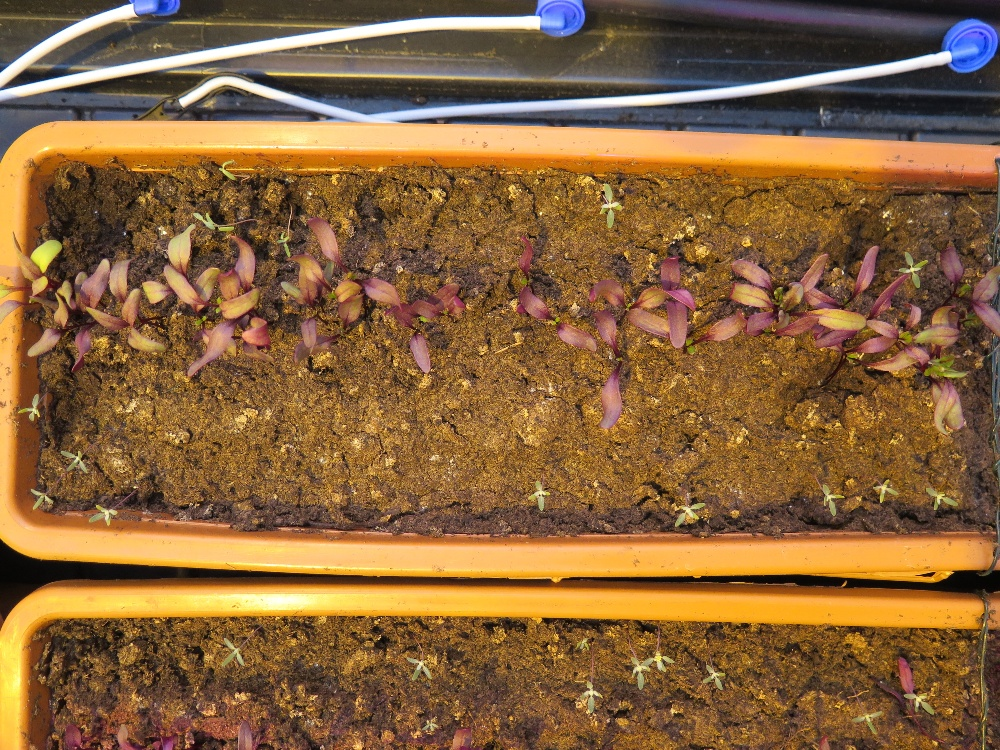crop: (711, 248, 839, 348), (356, 265, 466, 378), (191, 231, 266, 380), (931, 231, 1000, 359), (299, 209, 365, 328), (166, 217, 210, 385), (15, 236, 75, 358), (109, 232, 158, 379), (504, 285, 599, 359), (584, 308, 637, 435), (858, 297, 926, 385), (920, 313, 966, 440), (723, 309, 857, 349), (594, 280, 671, 348), (69, 250, 109, 380), (721, 261, 847, 302), (655, 250, 699, 354), (849, 243, 884, 368), (287, 250, 319, 378), (511, 232, 548, 317)
weed: (597, 183, 623, 231), (577, 678, 605, 715), (923, 485, 959, 512), (525, 478, 552, 513), (673, 501, 706, 529), (820, 482, 846, 516), (850, 710, 883, 736), (404, 654, 433, 682), (220, 637, 246, 668), (60, 448, 89, 475), (16, 392, 40, 424), (700, 662, 726, 691), (87, 503, 118, 526), (872, 478, 899, 504), (29, 486, 54, 511), (275, 229, 291, 258), (421, 717, 439, 734), (574, 635, 590, 654)
